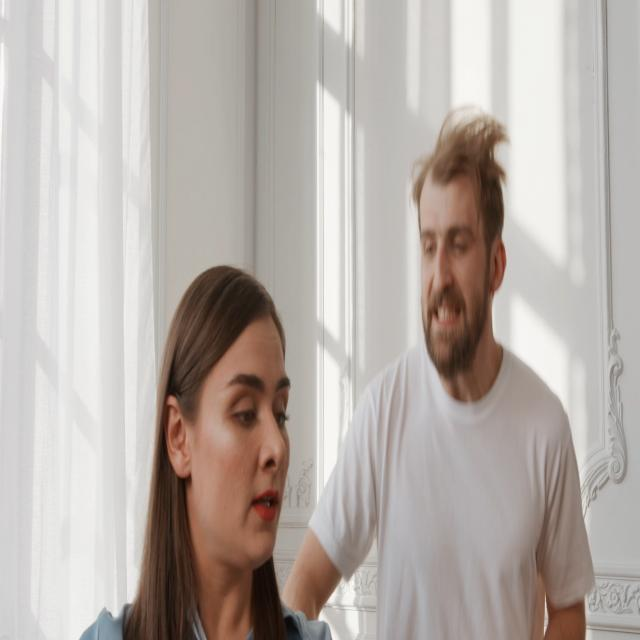angry: (408, 128, 535, 442)
stress: (170, 248, 300, 583)
